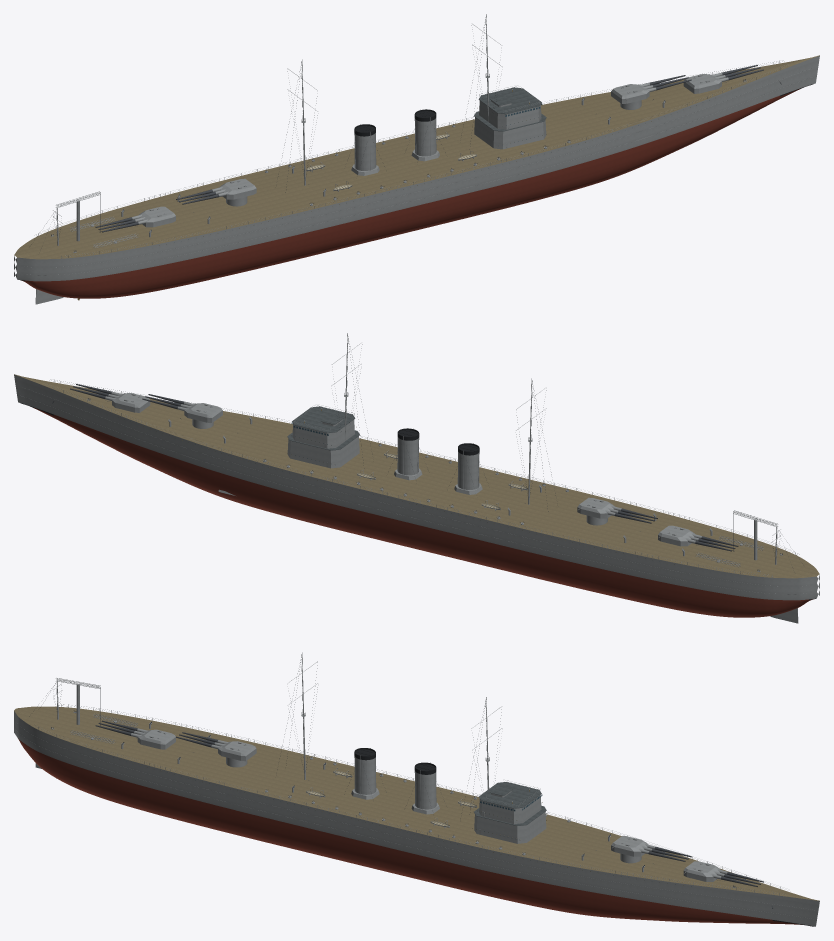
Rendered from constitution_bb25.glb.
3 views of the same model, one above another, from view 1: azimuth 30°, elevation 25°; view 2: azimuth 150°, elevation 25°; view 3: azimuth 330°, elevation 25° (orthographic).
Parts seen in each view (by area): view 1: Constitution class; view 2: Constitution class; view 3: Constitution class.
Part boxes in pixels (left/top/right/bottom): Constitution class: left=14, top=14, right=819, bottom=304; Constitution class: left=14, top=333, right=819, bottom=623; Constitution class: left=14, top=652, right=819, bottom=926.
Size of the model in its own units: 295 by 64.09 by 33.29.
Materials: 9 (8 with a texture image).
